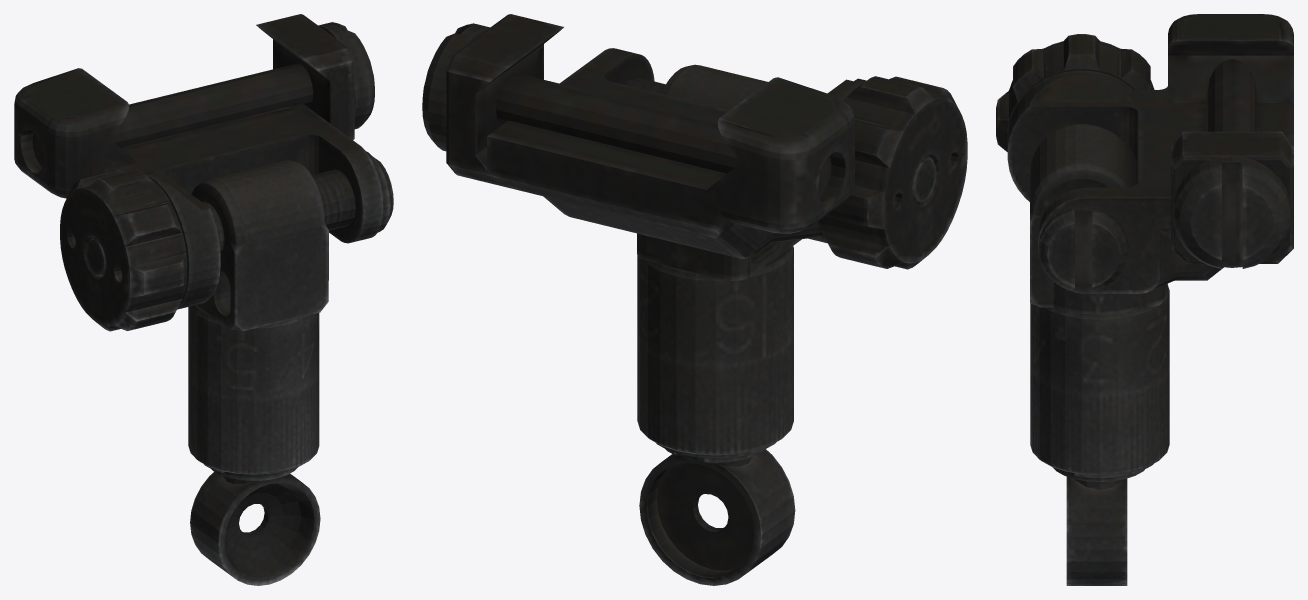
The picture shows the model from 3 angles, left to right: view 1: azimuth 30°, elevation 25°; view 2: azimuth 150°, elevation 25°; view 3: azimuth 270°, elevation 25°; orthographic projection. The views are drawn at different scales.
Visible parts, largest first — view 1: TW_5dfa3d7ac41b2312ea33362a_PZ_Import; view 2: TW_5dfa3d7ac41b2312ea33362a_PZ_Import; view 3: TW_5dfa3d7ac41b2312ea33362a_PZ_Import.
Part boxes in pixels (x1=…): TW_5dfa3d7ac41b2312ea33362a_PZ_Import: x1=14, y1=14, x2=393, y2=585; TW_5dfa3d7ac41b2312ea33362a_PZ_Import: x1=422, y1=14, x2=967, y2=585; TW_5dfa3d7ac41b2312ea33362a_PZ_Import: x1=996, y1=14, x2=1293, y2=585.
Bounding box in the file's own units: 0.0184 × 0.0135 × 0.0248.
1 material, 1 textured.
